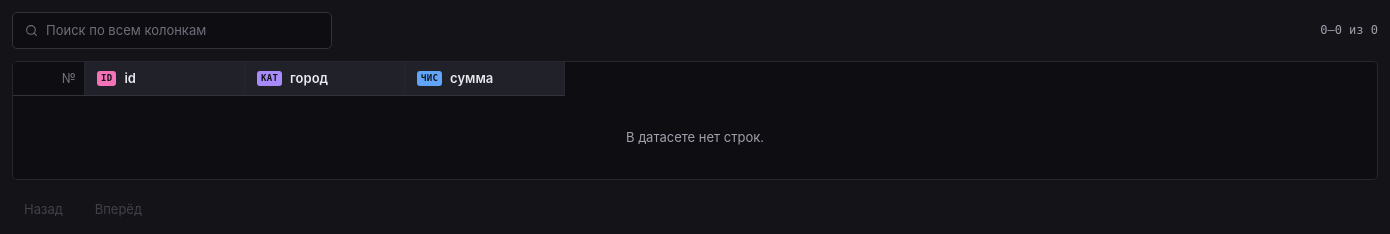
Test: таблица датасета › пустой результат поиска отличается от пустого датасета
Type "нетничего" into the search field at (182, 30), box [46,13,319,48]
Then press Enter
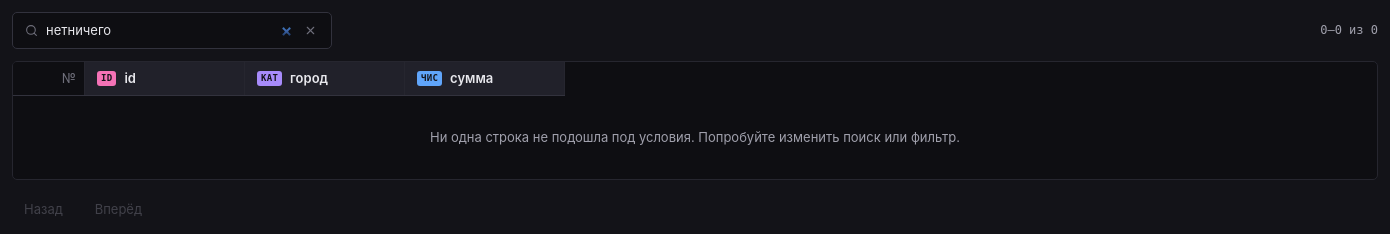
Expected: the text "Ни одна строка не подошла" is shown, [430,129,960,145]
